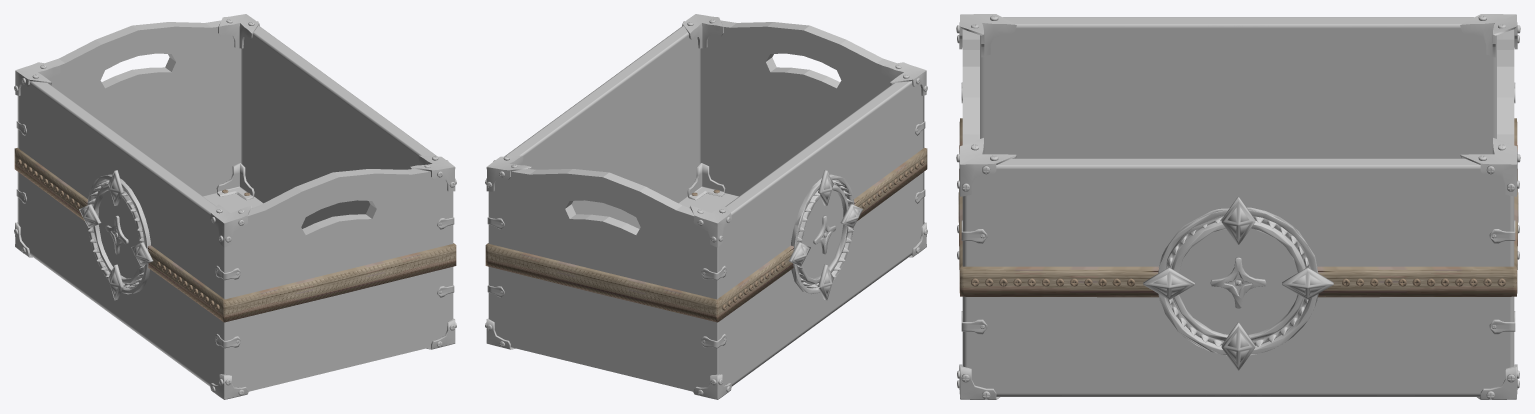
The model's file is boxvcentre.fbx.
3 renders of one model, left to right at view 1: azimuth 30°, elevation 25°; view 2: azimuth 150°, elevation 25°; view 3: azimuth 270°, elevation 25°, orthographic. The views are drawn at different scales.
Parts seen in each view (by area): view 1: Object024.001; view 2: Object024.001; view 3: Object024.001.
Part boxes in pixels (box(x1,y1,x2,y2)): Object024.001: box(14, 14, 456, 399); Object024.001: box(485, 14, 927, 399); Object024.001: box(956, 14, 1520, 399).
Bounding box in the file's own units: 57.07 × 42.44 × 83.34.
